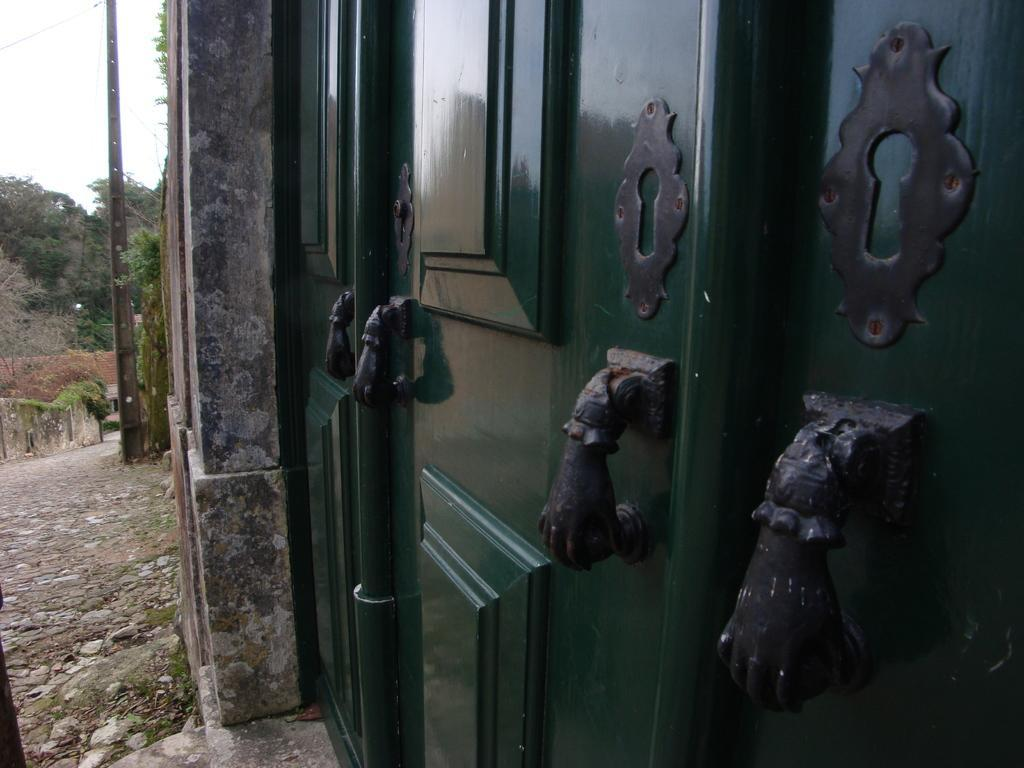door: (382, 0, 739, 768), (760, 0, 1024, 768), (274, 0, 368, 752)
handle: (754, 486, 872, 712), (548, 397, 634, 574), (356, 306, 414, 414), (322, 296, 354, 402)
